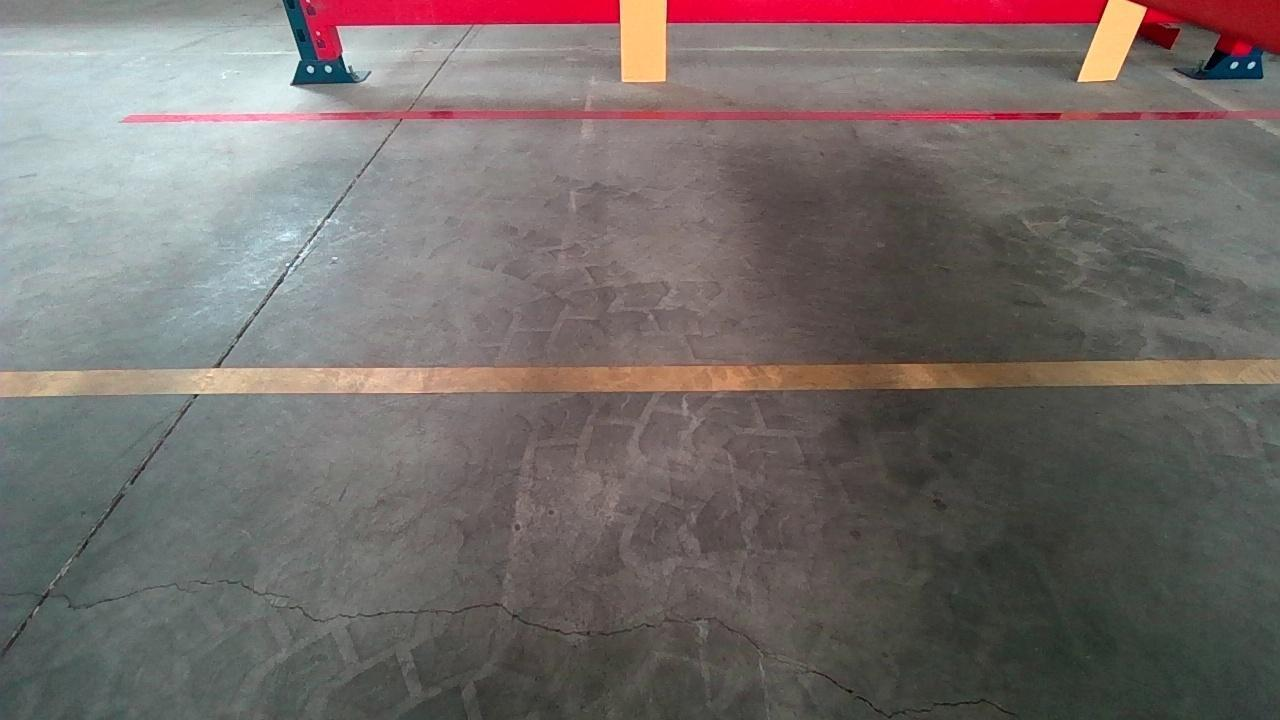red_line: (120, 108, 1280, 122)
yellow_line: (0, 356, 1280, 397)
